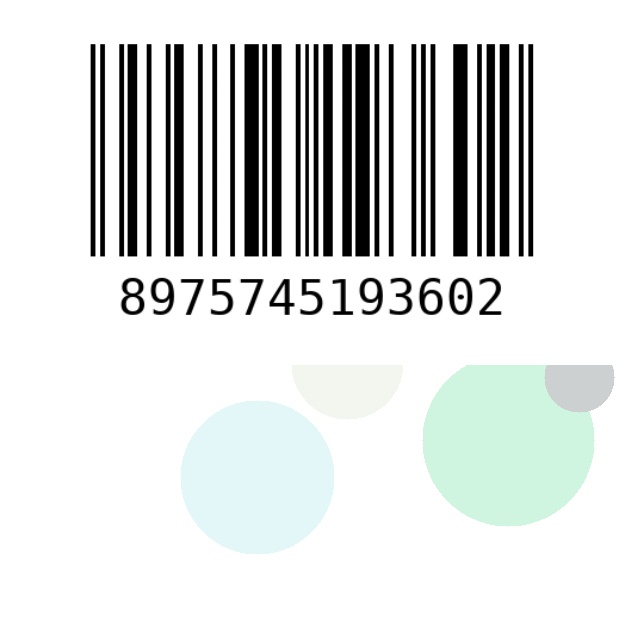barcode: (0, 31, 624, 365)
